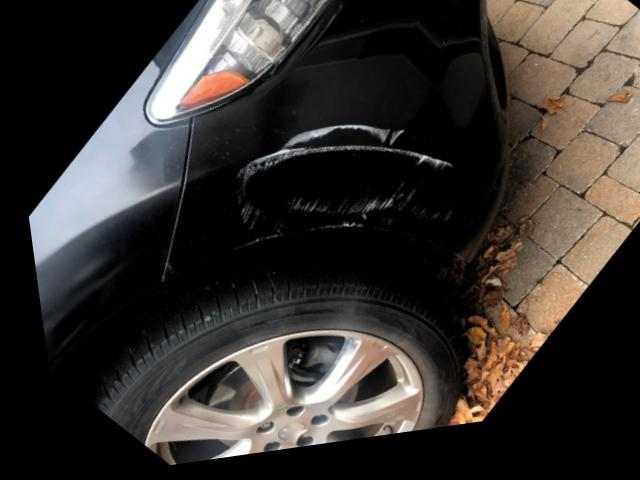scratch: (221, 126, 451, 253)
